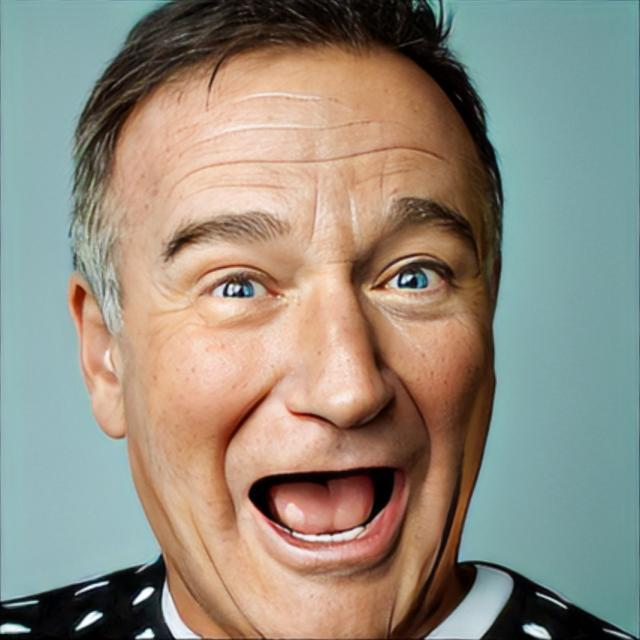surprise: (125, 46, 497, 640)
